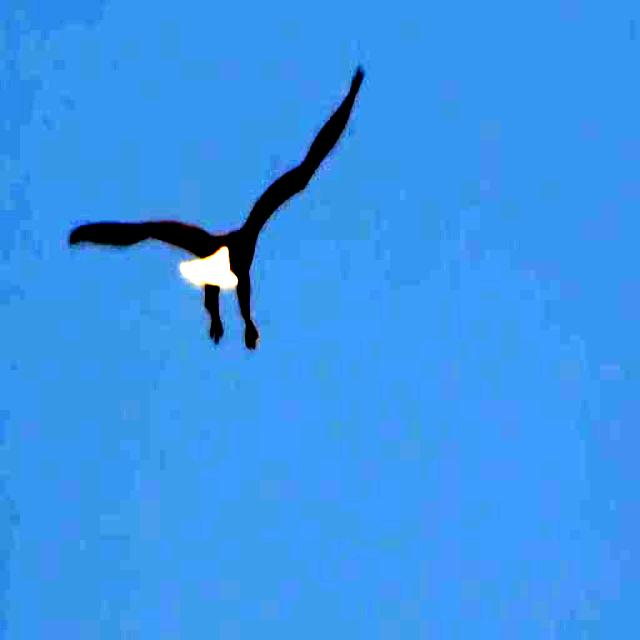airplane: (54, 69, 370, 368)
